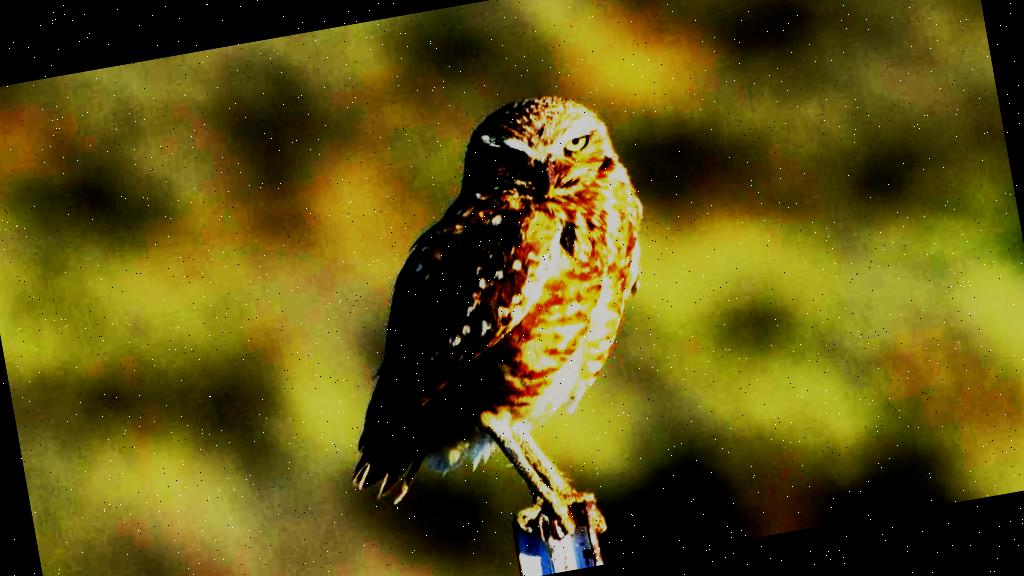Owl: (284, 81, 698, 574)
